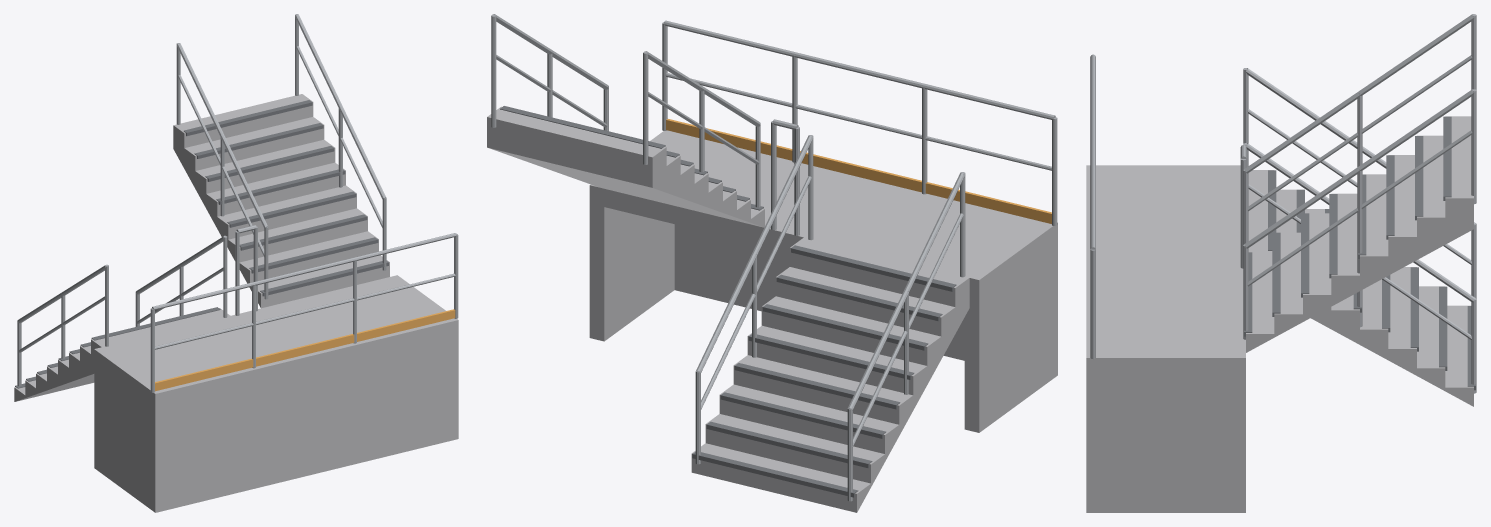
Rendered from modular-greybox-architecture-kit-stair-half-landing-cb97b3fc__22871.glb.
The picture shows the model from 3 angles, left to right: view 1: azimuth 30°, elevation 25°; view 2: azimuth 150°, elevation 25°; view 3: azimuth 270°, elevation 25°; orthographic projection. The views are drawn at different scales.
Parts seen in each view (by area): view 1: stair-half-landing; view 2: stair-half-landing; view 3: stair-half-landing.
Part boxes in pixels (x1=…): stair-half-landing: x1=14, y1=14, x2=458, y2=512; stair-half-landing: x1=487, y1=14, x2=1057, y2=512; stair-half-landing: x1=1086, y1=14, x2=1476, y2=512.
Bounding box in the file's own units: 4.05 × 4.02 × 3.42.
